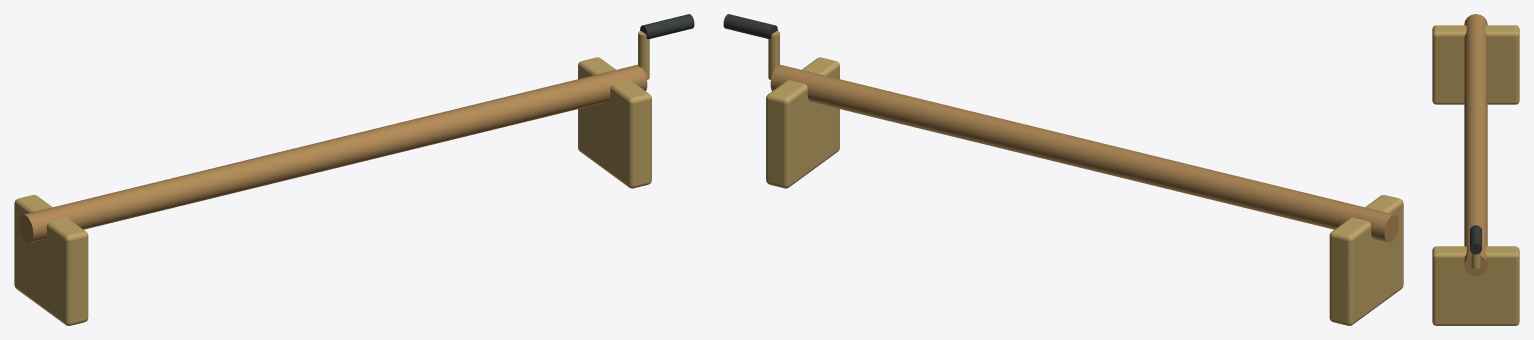
The model's file is abandoned-puppet-theatre-and-prop-vault-backdrop-rolle-fe3f62fd__31099.glb.
3 views of the same model, side by side, from view 1: azimuth 30°, elevation 25°; view 2: azimuth 150°, elevation 25°; view 3: azimuth 270°, elevation 25° (orthographic). The views are drawn at different scales.
Visible parts, largest first — view 1: backdrop-roller; view 2: backdrop-roller; view 3: backdrop-roller.
Boxes of the visible parts, <box> form: backdrop-roller: <box>14,14,694,325</box>; backdrop-roller: <box>723,14,1403,325</box>; backdrop-roller: <box>1432,14,1519,325</box>.
Bounding box in the file's own units: 1.84 × 0.358 × 0.26.
